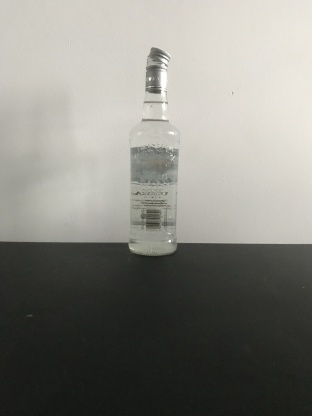nakretka: (143, 45, 172, 93)
